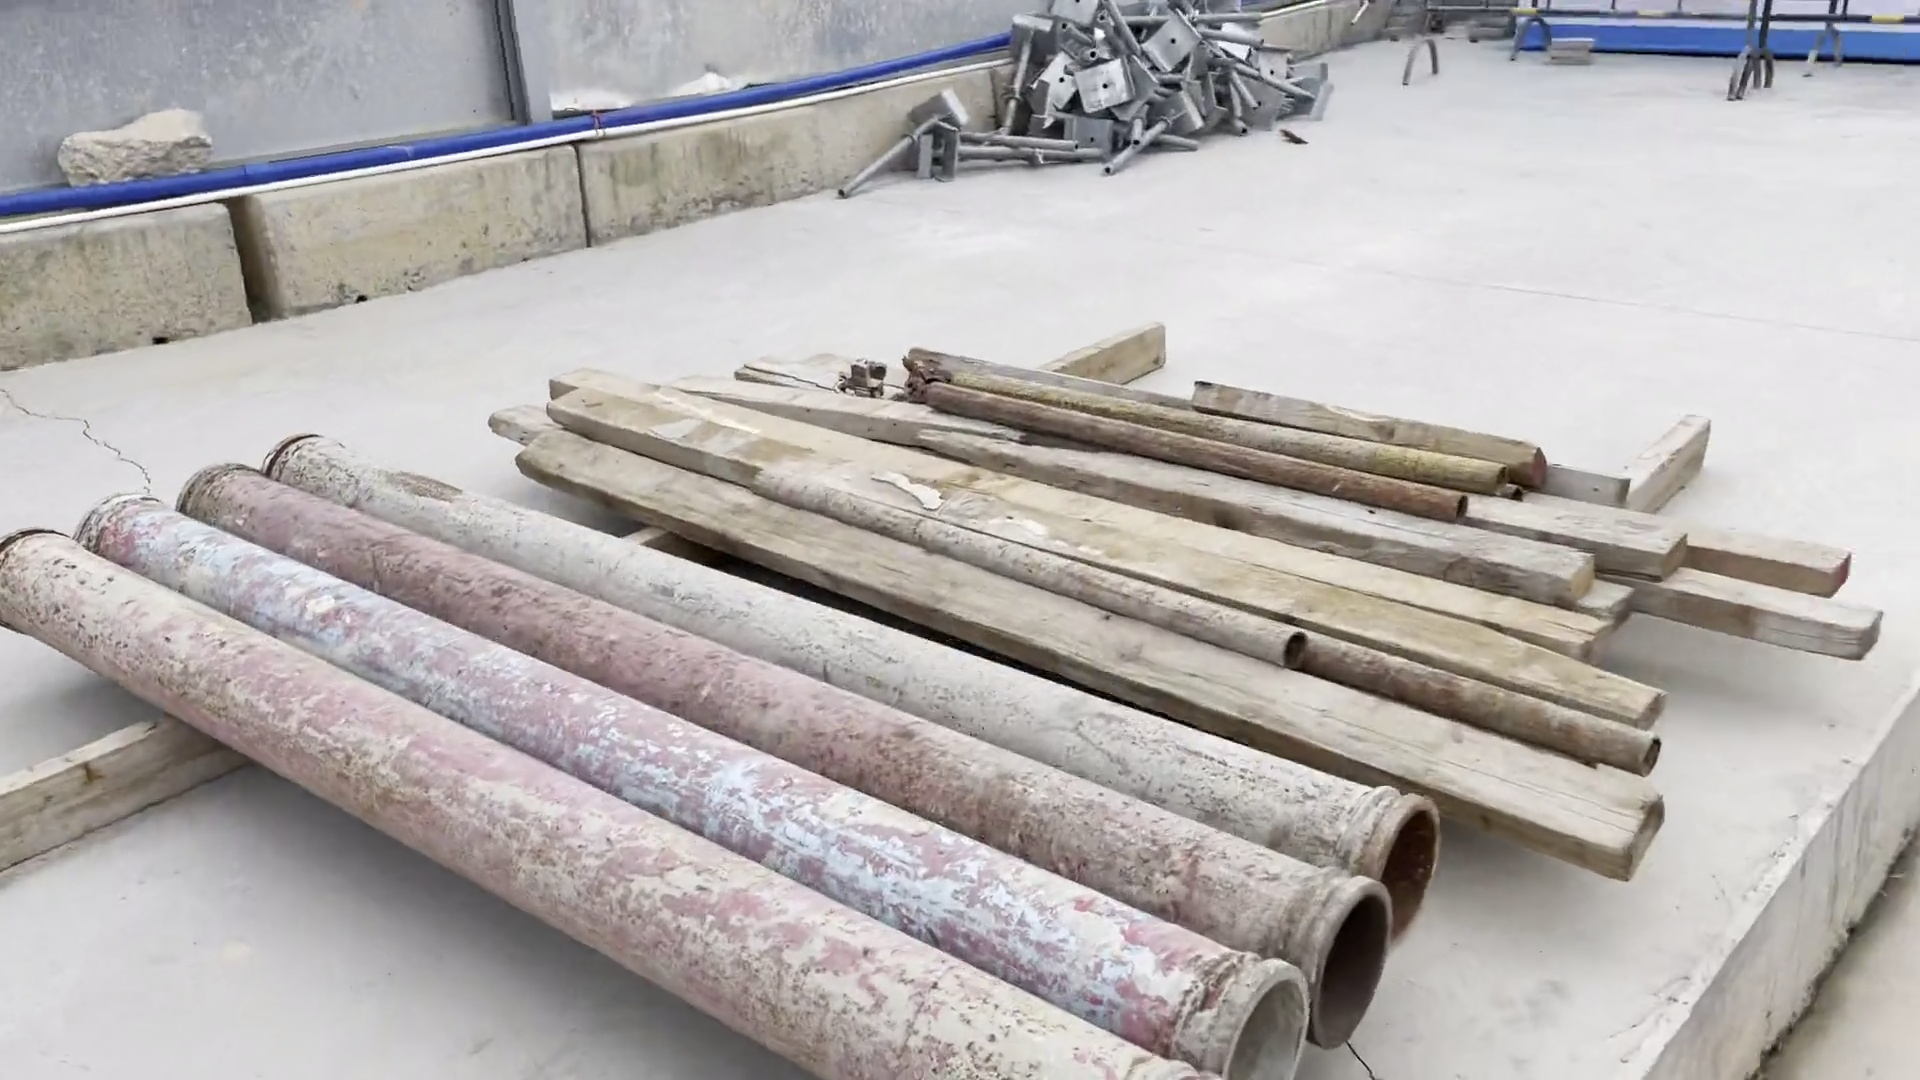wood: (488, 323, 1884, 915)
